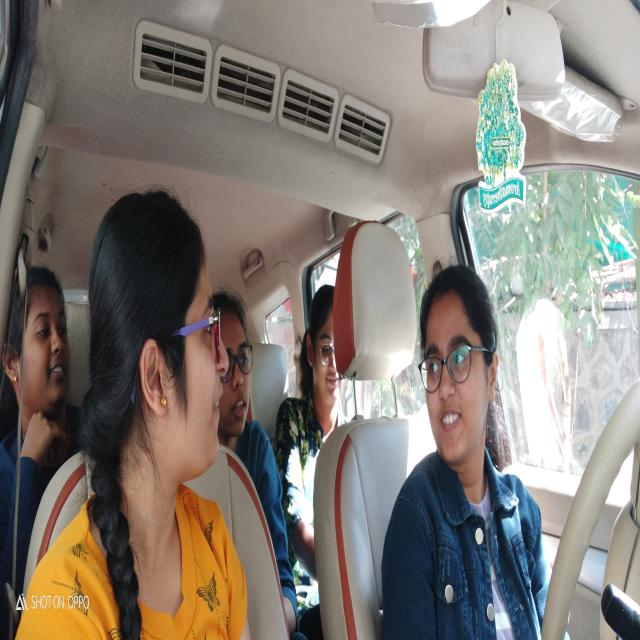LeftRight: (416, 272, 501, 475)
person: (117, 196, 230, 477), (13, 287, 73, 409), (214, 274, 253, 437), (308, 285, 342, 415)
talking: (436, 402, 468, 434)
